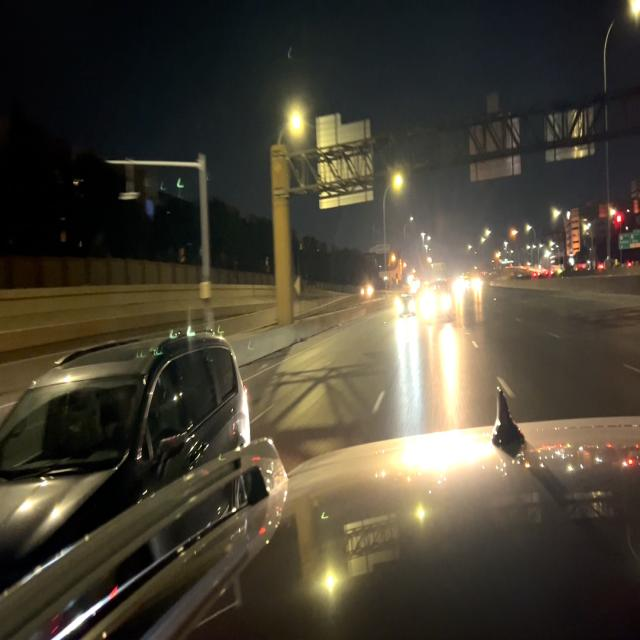back-of-sign: (314, 114, 375, 210), (468, 90, 523, 185), (543, 95, 596, 161)
